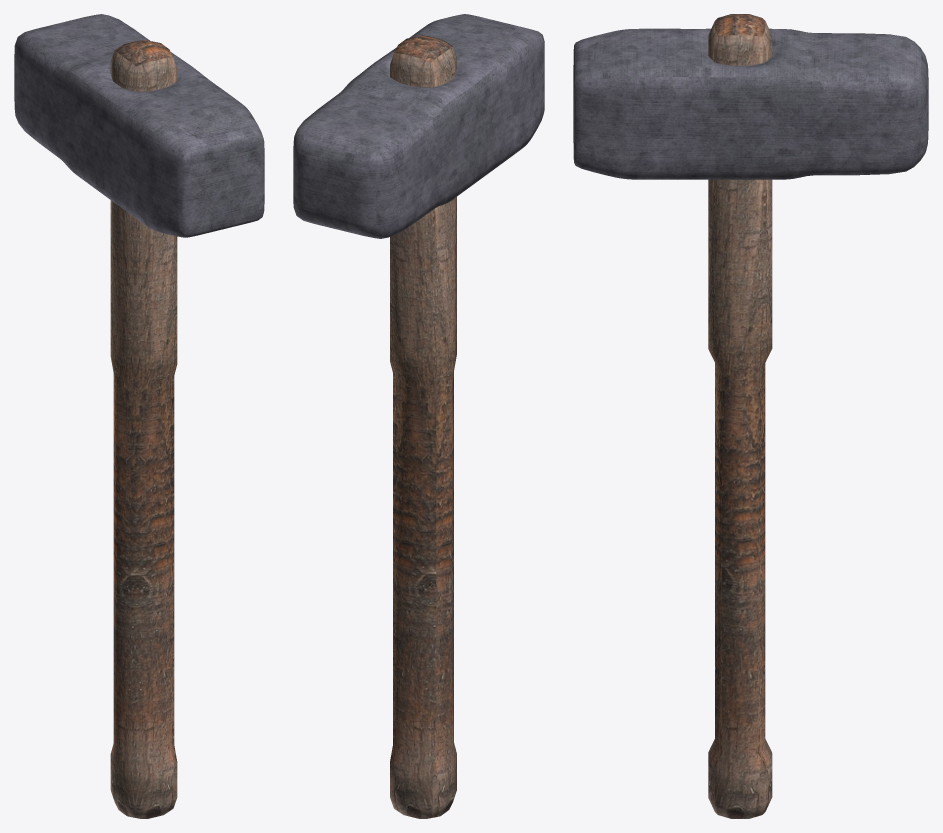
File: hammer type 1.fbx
The picture shows the model from 3 angles, left to right: view 1: azimuth 30°, elevation 25°; view 2: azimuth 150°, elevation 25°; view 3: azimuth 270°, elevation 25°; orthographic projection. The views are drawn at different scales.
Visible parts, largest first — view 1: hammer type 1, HammerHead.001; view 2: hammer type 1, HammerHead.001; view 3: HammerHead.001, hammer type 1.
Part boxes in pixels (x1=…): hammer type 1: x1=110, y1=40, x2=177, y2=818; HammerHead.001: x1=14, y1=14, x2=264, y2=237; hammer type 1: x1=390, y1=36, x2=456, y2=818; HammerHead.001: x1=293, y1=14, x2=544, y2=238; HammerHead.001: x1=573, y1=28, x2=928, y2=179; hammer type 1: x1=708, y1=14, x2=772, y2=818.
Bounding box in the file's own units: 5.04 × 35.86 × 14.5.
Materials: 2 (2 with a texture image).
